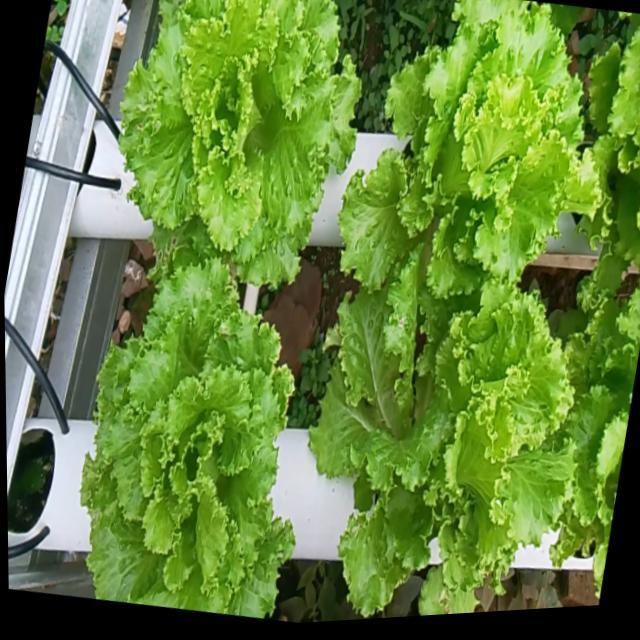Mature: (299, 285, 545, 610), (328, 0, 570, 299), (84, 269, 288, 617), (117, 0, 349, 294)
